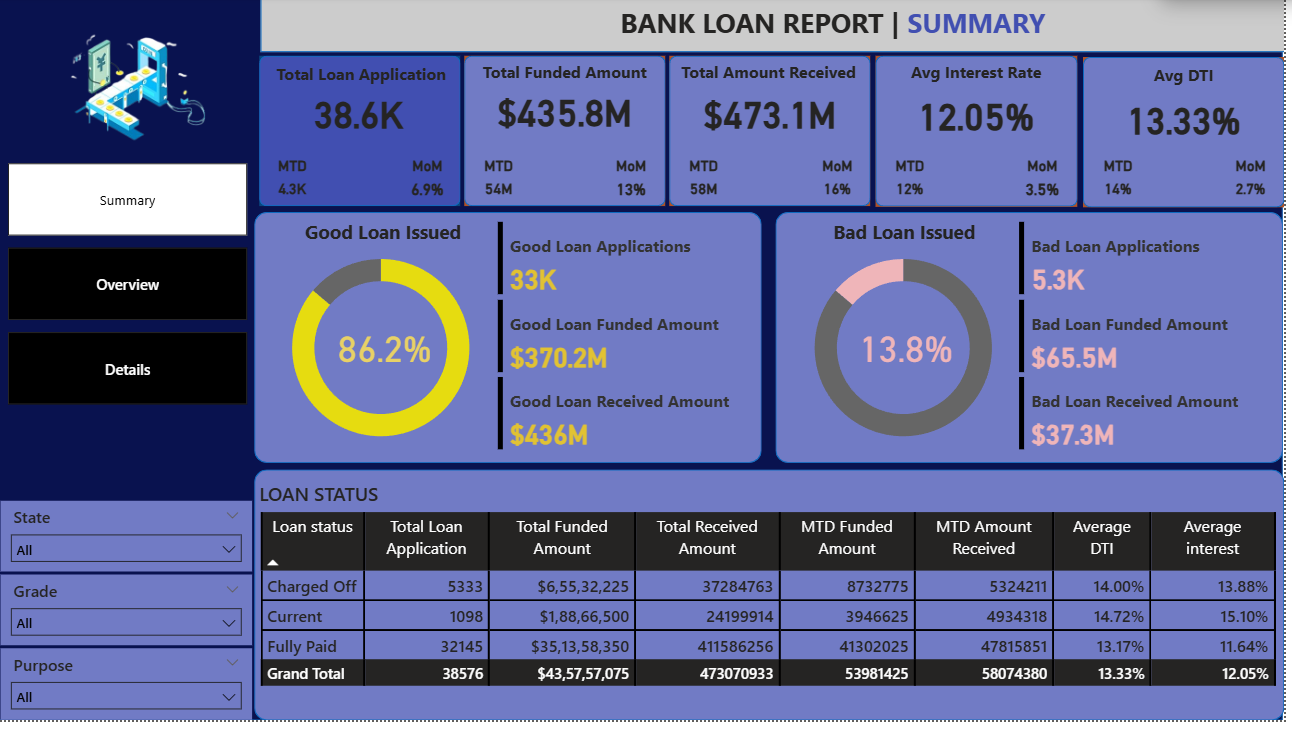

Layout of this report page (visuals, bound fields, positions):
{"tool":"powerbi","page":{"name":"Summary","canvas":[1280,720],"ordinal":0},"visuals":[{"type":"shape","box":[0,0,1278.6,720],"z":500},{"type":"shape","box":[260.7,0,1020,54.9],"z":1000},{"type":"shape","box":[260,58.8,200.4,149.6],"z":2000},{"type":"textbox","box":[380.1,2.7,900.2,52.1],"z":3000},{"type":"card","title":"MTD","fields":{"Values":["financial_loan.MTD Loan Application"]},"box":[266.2,159.2,53.5,49.4],"z":4000},{"type":"card","title":"Total Loan Applications","fields":{"Values":["financial_loan.Total Loan Application"]},"box":[259.3,91.9,200.3,49.4],"z":5000},{"type":"card","title":"MoM","fields":{"Values":["financial_loan.MoM Loan Application"]},"box":[400.7,159.2,53.5,49.4],"z":6000},{"type":"textbox","box":[260.8,59.2,200.4,37.3],"z":7000},{"type":"shape","box":[464.2,58.8,200.4,149.6],"z":8000},{"type":"card","title":"MTD","fields":{"Values":["financial_loan.MTD Funded Amount"]},"box":[472,159.2,53.5,49.4],"z":9000},{"type":"card","title":"Total Loan Applications","fields":{"Values":["financial_loan.Total Funded Amount"]},"box":[464.4,91.1,200,48.9],"z":10000},{"type":"card","title":"MoM","fields":{"Values":["financial_loan.MoM Funded Amount"]},"box":[603.8,159.2,53.5,49.4],"z":11000},{"type":"textbox","box":[464.4,58.9,200,37.8],"z":12000},{"type":"shape","box":[668.5,58.8,200.4,149.6],"z":13000},{"type":"card","title":"MTD","fields":{"Values":["financial_loan.MTD Amount Received"]},"box":[675.1,159.2,53.5,49.4],"z":14000},{"type":"card","title":"Total Loan Applications","fields":{"Values":["Sum(financial_loan.total_payment)"]},"box":[668.3,91.9,200.3,49.4],"z":15000},{"type":"card","title":"MoM","fields":{"Values":["financial_loan.MoM Amount Received"]},"box":[808.2,159.2,53.5,49.4],"z":16000},{"type":"textbox","box":[666.9,59,200.3,37],"z":17000},{"type":"shape","box":[872.7,58.8,201.2,150],"z":18000},{"type":"card","title":"MTD","fields":{"Values":["financial_loan.MTD Interest Rate"]},"box":[881,159.2,53.5,49.4],"z":19000},{"type":"card","title":"Total Loan Applications","fields":{"Values":["Avg(financial_loan.int_rate)"]},"box":[872.7,94.7,200.3,49.4],"z":20000},{"type":"card","title":"MoM","fields":{"Values":["financial_loan.MoM Interest Rate"]},"box":[1012.7,159.2,53.5,49.4],"z":21000},{"type":"textbox","box":[872.7,59,200.3,37],"z":22000},{"type":"shape","box":[1079.6,59.2,200.4,149.6],"z":23000},{"type":"card","title":"MTD","fields":{"Values":["financial_loan.MTD DTI"]},"box":[1086.8,159.2,54.9,49.4],"z":24000},{"type":"card","title":"Total Loan Applications","fields":{"Values":["Avg(financial_loan.dti)"]},"box":[1079.4,98.7,200.3,49.4],"z":25000},{"type":"card","title":"MoM","fields":{"Values":["financial_loan.MoM DTI"]},"box":[1218.5,159.2,54.9,49.4],"z":26000},{"type":"textbox","box":[1079.6,60.4,200.3,37],"z":27000},{"type":"slicer","fields":{"Values":["financial_loan.address_state"]},"box":[2.9,501.4,250,70],"z":28000},{"type":"slicer","fields":{"Values":["financial_loan.purpose"]},"box":[2.9,648.6,250,71.4],"z":29000},{"type":"slicer","fields":{"Values":["financial_loan.sub_grade"]},"box":[2.9,574.3,250,70],"z":30000},{"type":"shape","box":[255.2,214.1,505,249.7],"z":31000},{"type":"donutChart","fields":{"Category":["financial_loan.Good loan vs Bad Loan"],"Y":["financial_loan.Total Loan Application"]},"box":[256.6,233.3,249.7,230.5],"z":32000},{"type":"card","fields":{"Values":["financial_loan.Good Loan %"]},"box":[332.1,323.8,105.7,48],"z":33000},{"type":"textbox","box":[275.8,216.8,214.1,39.8],"z":34000},{"type":"cardVisual","fields":{"Data":["financial_loan.Good Loan Applications","financial_loan.Good Loan Funded Amount","financial_loan.Good Loan Received Amount"]},"box":[492.6,219.6,260.7,237.4],"z":35000},{"type":"shape","box":[774.3,214.1,505,249.7],"z":36000},{"type":"donutChart","fields":{"Category":["financial_loan.Good loan vs Bad Loan"],"Y":["financial_loan.Total Loan Application"]},"box":[775.7,233.3,249.7,230.5],"z":37000},{"type":"card","fields":{"Values":["financial_loan.Bad Loan %"]},"box":[851.1,323.8,105.7,48],"z":38000},{"type":"textbox","box":[794.9,216.8,214.1,39.8],"z":39000},{"type":"cardVisual","fields":{"Data":["financial_loan.Bad Loan Applications","financial_loan.Bad Loan Funded Amount","financial_loan.Bad Loan Received Amount"]},"box":[1011.7,219.6,260.7,237.4],"z":40000},{"type":"shape","box":[255.2,470.7,1025,249.7],"z":41000},{"type":"tableEx","title":"LOAN STATUS","fields":{"Values":["financial_loan.loan_status","financial_loan.Total Loan Application","financial_loan.Total Funded Amount","financial_loan.Total Received Amount","financial_loan.MTD Funded Amount","financial_loan.MTD Amount Received","Avg(financial_loan.dti)","Avg(financial_loan.int_rate)"]},"box":[255,481.3,1023.9,238.6],"z":42000},{"type":"pageNavigator","box":[10,165.7,238.6,240],"z":42001},{"type":"image","box":[41.4,1.4,175.7,178.6],"z":42002}]}

Visuals, with their boxes in screenshot pixels (x1, y1, x2, y2), scaled from the page's 1280x720 canvas onto the 1292x730 screenshot:
shape: bbox(0, 0, 1291, 729)
shape: bbox(263, 0, 1291, 56)
shape: bbox(262, 60, 465, 211)
textbox: bbox(384, 3, 1291, 56)
"MTD" card: bbox(269, 161, 323, 211)
"Total Loan Applications" card: bbox(262, 93, 464, 143)
"MoM" card: bbox(404, 161, 458, 211)
textbox: bbox(263, 60, 466, 98)
shape: bbox(469, 60, 671, 211)
"MTD" card: bbox(476, 161, 530, 211)
"Total Loan Applications" card: bbox(469, 92, 671, 142)
"MoM" card: bbox(609, 161, 663, 211)
textbox: bbox(469, 60, 671, 98)
shape: bbox(675, 60, 877, 211)
"MTD" card: bbox(681, 161, 735, 211)
"Total Loan Applications" card: bbox(675, 93, 877, 143)
"MoM" card: bbox(816, 161, 870, 211)
textbox: bbox(673, 60, 875, 97)
shape: bbox(881, 60, 1084, 212)
"MTD" card: bbox(889, 161, 943, 211)
"Total Loan Applications" card: bbox(881, 96, 1083, 146)
"MoM" card: bbox(1022, 161, 1076, 211)
textbox: bbox(881, 60, 1083, 97)
shape: bbox(1090, 60, 1291, 212)
"MTD" card: bbox(1097, 161, 1152, 211)
"Total Loan Applications" card: bbox(1090, 100, 1291, 150)
"MoM" card: bbox(1230, 161, 1285, 211)
textbox: bbox(1090, 61, 1291, 99)
slicer - financial_loan.address_state: bbox(3, 508, 255, 579)
slicer - financial_loan.purpose: bbox(3, 658, 255, 729)
slicer - financial_loan.sub_grade: bbox(3, 582, 255, 653)
shape: bbox(258, 217, 767, 470)
donutChart - financial_loan.Good loan vs Bad Loan x financial_loan.Total Loan Application: bbox(259, 237, 511, 470)
card - financial_loan.Good Loan %: bbox(335, 328, 442, 377)
textbox: bbox(278, 220, 494, 260)
cardVisual - financial_loan.Good Loan Applications x financial_loan.Good Loan Funded Amount: bbox(497, 223, 760, 463)
shape: bbox(782, 217, 1291, 470)
donutChart - financial_loan.Good loan vs Bad Loan x financial_loan.Total Loan Application: bbox(783, 237, 1035, 470)
card - financial_loan.Bad Loan %: bbox(859, 328, 966, 377)
textbox: bbox(802, 220, 1018, 260)
cardVisual - financial_loan.Bad Loan Applications x financial_loan.Bad Loan Funded Amount: bbox(1021, 223, 1284, 463)
shape: bbox(258, 477, 1291, 729)
"LOAN STATUS" tableEx: bbox(257, 488, 1291, 729)
pageNavigator: bbox(10, 168, 251, 411)
image: bbox(42, 1, 219, 182)
